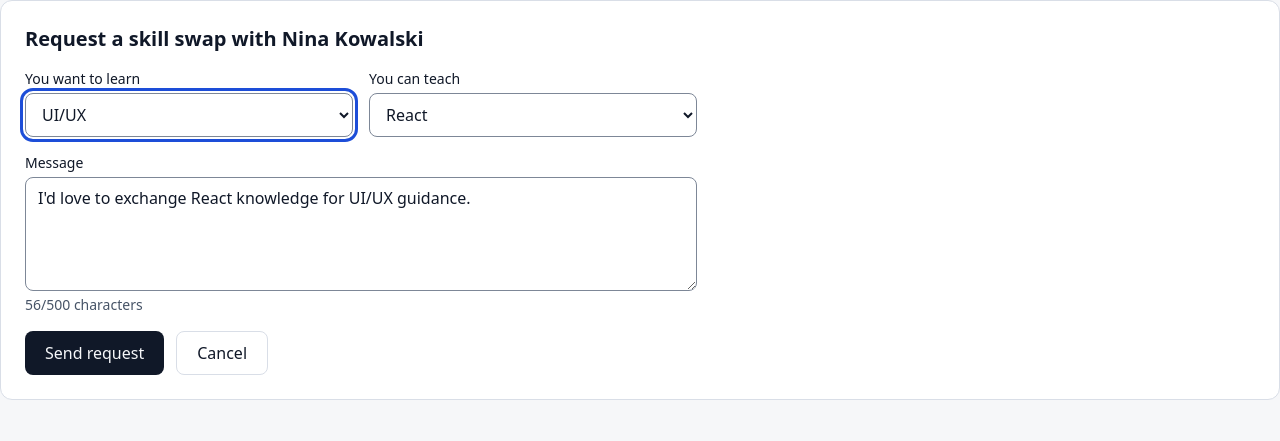
Test case: RequestForm: validation › requires at least 10 characters
This screenshot has width=1280, height=441.
Replace the text in the text box labelled "Message" with "Hi" at [361, 234], box x1=25 y1=177 x2=697 y2=291
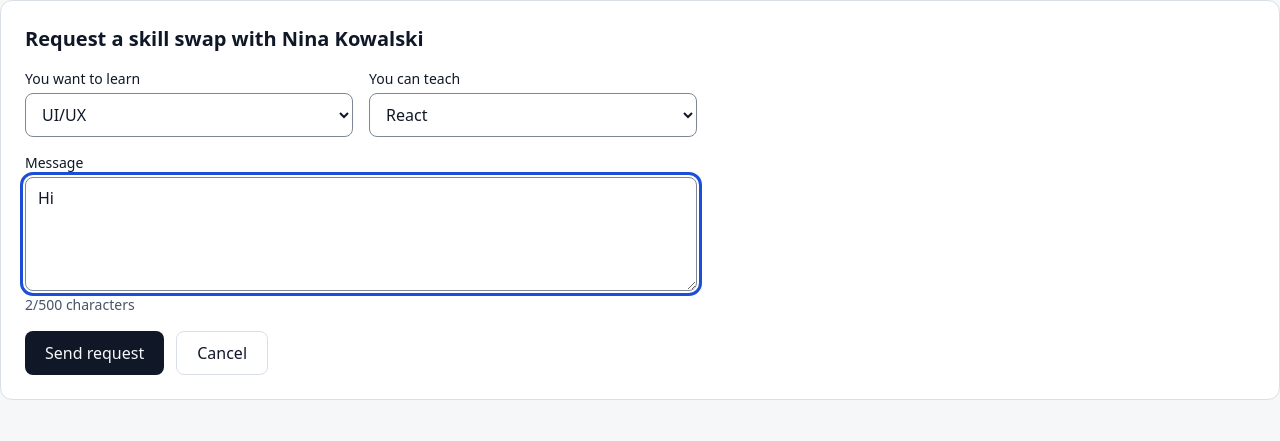
Click the button "Send request" at [95, 353], box x1=25 y1=331 x2=164 y2=375
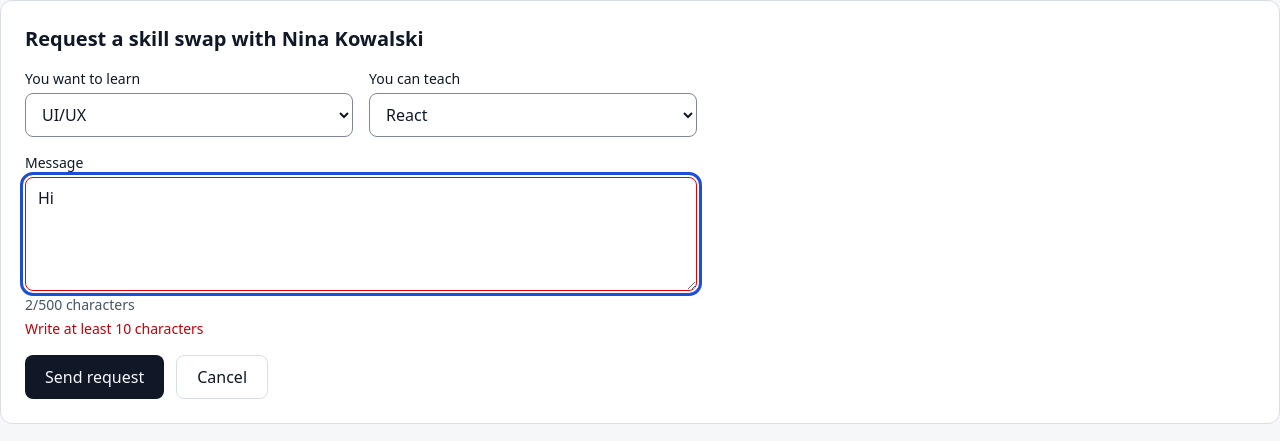
Check: the text "Write at least 10 characters" is shown, box x1=25 y1=319 x2=204 y2=338
